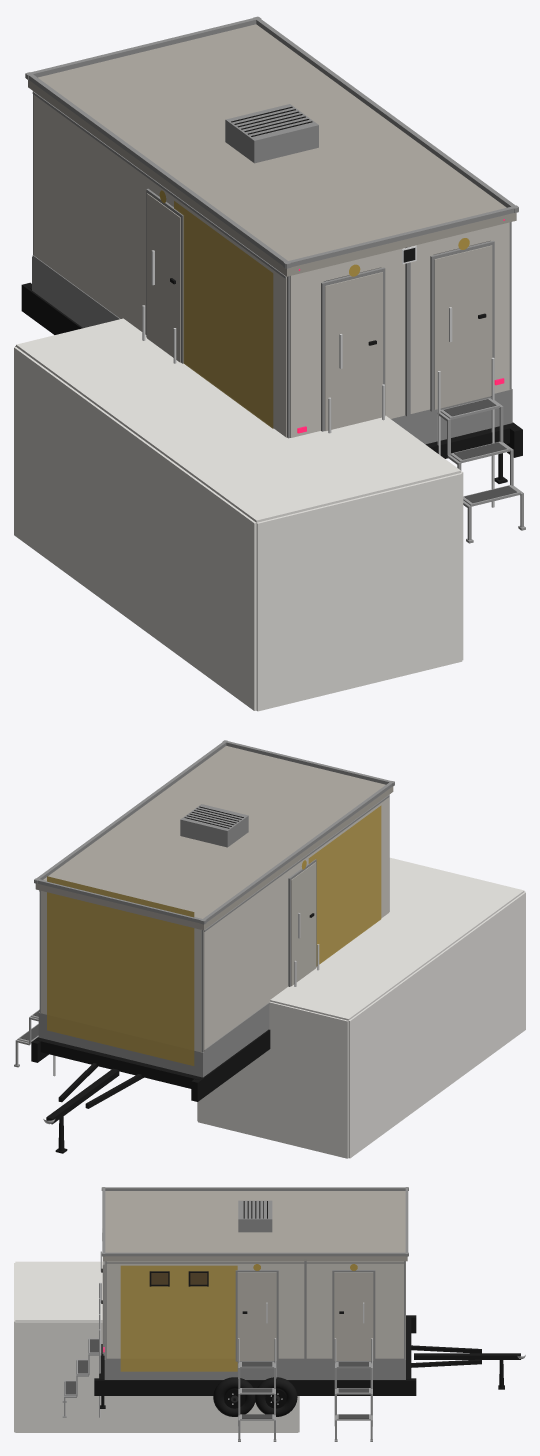
Rendered from upscale-outhouse.glb.
3 renders of one model, top to bottom at view 1: azimuth 30°, elevation 25°; view 2: azimuth 150°, elevation 25°; view 3: azimuth 270°, elevation 25°, orthographic. The views are drawn at different scales.
Visible parts, largest first — view 1: Exterior, Interior, Logo_Left; view 2: Exterior, Interior, Logo_Front, Logo_Left; view 3: Exterior, Interior, Logo_Right.
Part boxes in pixels (bbox=[...]): Exterior: bbox=[21, 16, 525, 543]; Interior: bbox=[14, 318, 463, 711]; Logo_Left: bbox=[174, 201, 273, 428]; Exterior: bbox=[14, 740, 394, 1153]; Interior: bbox=[197, 857, 525, 1158]; Logo_Front: bbox=[47, 876, 194, 1065]; Logo_Left: bbox=[308, 805, 381, 966]; Exterior: bbox=[62, 1187, 525, 1441]; Interior: bbox=[14, 1261, 299, 1432]; Logo_Right: bbox=[120, 1265, 237, 1371].
Size of the model in its own units: 5.51 by 5.13 by 10.5.
